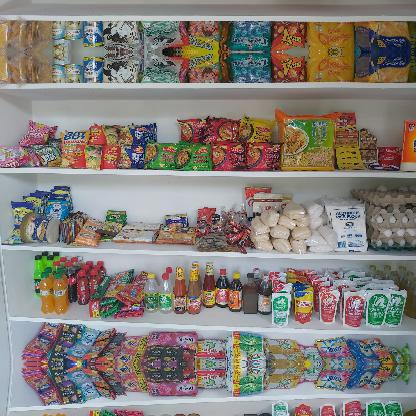Lady-s-Choice: (18, 212, 60, 244)
